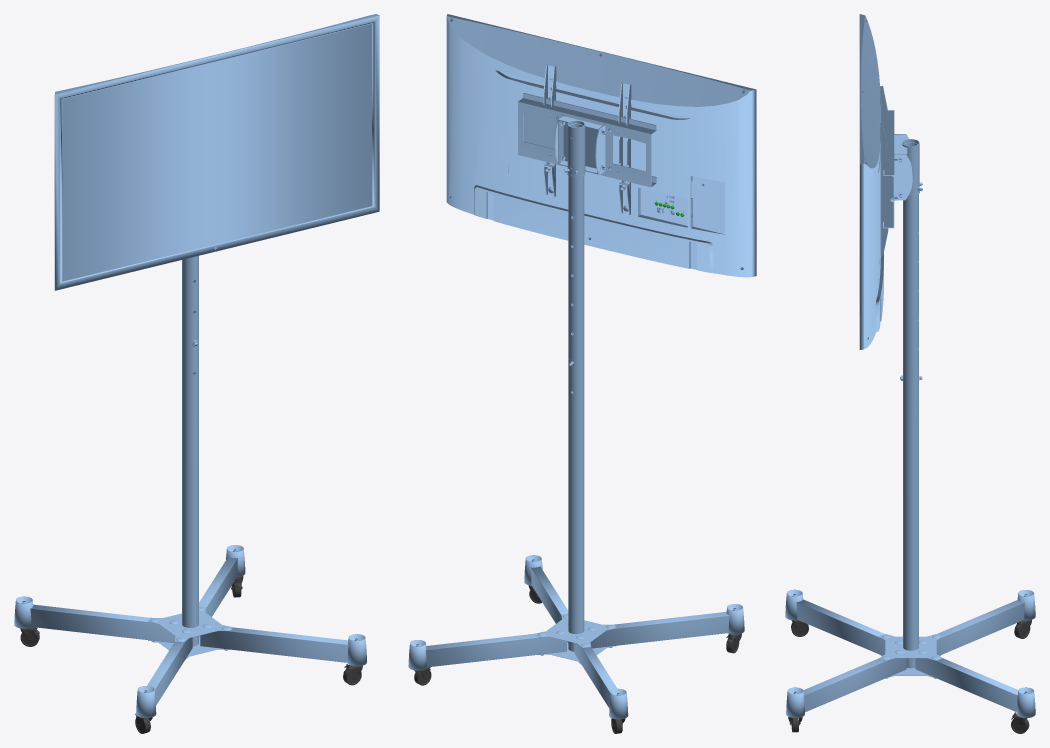
3 views of the same model, side by side, from view 1: azimuth 30°, elevation 25°; view 2: azimuth 150°, elevation 25°; view 3: azimuth 270°, elevation 25° (orthographic). The views are drawn at different scales.
Visible parts, largest first — view 1: Cylinder002, Box005, Base, Tube001, Box001, Box004, Box015, Box003, Object015; view 2: Cylinder002, Base, Line024, Tube001, Box003, Box015, Tube003, Object004, Box004, Box001, Line026, Object003; view 3: Cylinder002, Base, Tube001, Box001, Box003, Box015, Box004, Line024, Object003, Line025, Tube003, Object013 (+1 smaller).
Part boxes in pixels (<box>): Cylinder002: <box>55,14,379,281</box>; Box005: <box>54,15,379,290</box>; Base: <box>148,338,232,659</box>; Tube001: <box>182,256,198,465</box>; Box001: <box>200,627,348,662</box>; Box004: <box>30,604,175,642</box>; Box015: <box>147,637,192,705</box>; Box003: <box>199,557,237,636</box>; Object015: <box>136,686,156,718</box>; Cylinder002: <box>446,14,756,277</box>; Base: <box>535,358,616,664</box>; Line024: <box>518,93,656,187</box>; Tube001: <box>567,123,585,477</box>; Box003: <box>426,633,566,667</box>; Box015: <box>590,612,729,648</box>; Tube003: <box>558,116,602,175</box>; Object004: <box>618,83,631,215</box>; Box004: <box>574,643,617,707</box>; Box001: <box>531,566,568,642</box>; Line026: <box>595,124,613,174</box>; Object003: <box>543,64,556,196</box>; Cylinder002: <box>860,14,883,349</box>; Base: <box>879,376,942,678</box>; Tube001: <box>903,142,919,496</box>; Box001: <box>803,658,906,712</box>; Box003: <box>915,658,1018,711</box>; Box015: <box>796,599,885,655</box>; Box004: <box>936,600,1024,655</box>; Line024: <box>883,110,894,228</box>; Object003: <box>880,122,888,255</box>; Line025: <box>890,154,912,202</box>; Tube003: <box>897,134,922,198</box>; Object013: <box>1016,687,1035,717</box>.
Size of the model in its own units: 1111 by 2054 by 783.
